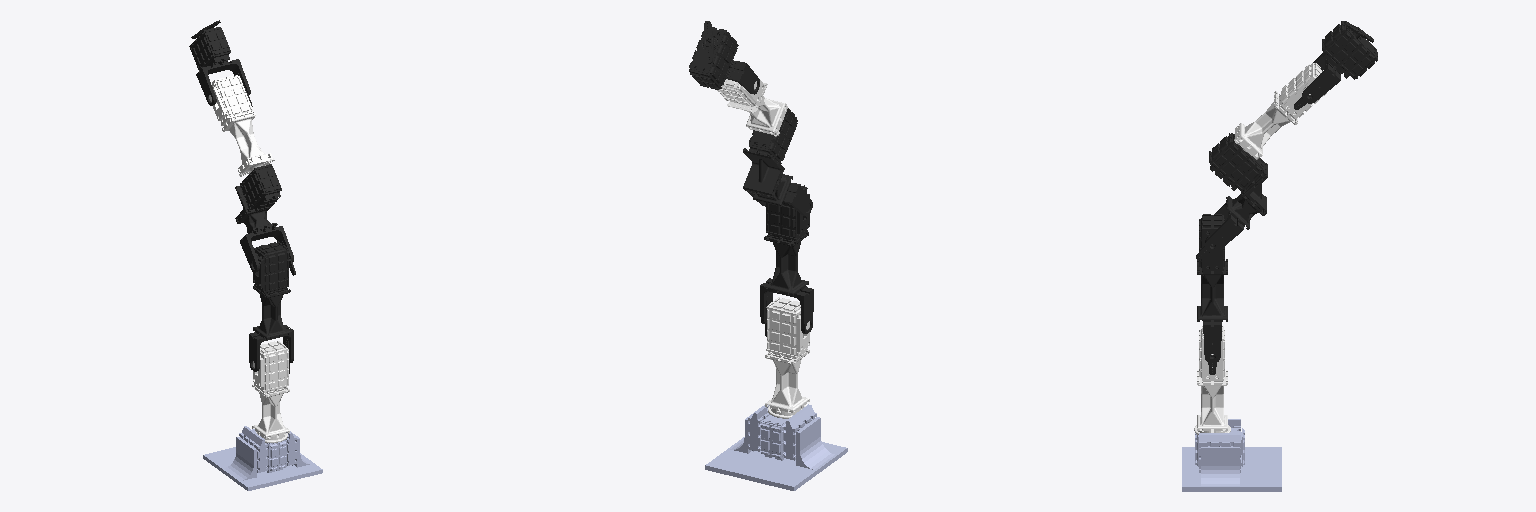
The robot description file, URDF, robot "irb120_peq":
?<robot
  name="irb120_peq">

<link name="world"/>
  <joint name="world-base_link-fixed" type="fixed">
    <parent link="world"/>
    <child link="base_link"/>
  </joint>

  <link
    name="base_link">
    <inertial>
      <origin
        xyz="0.00051296 0.015548 0.022027"
        rpy="0 0 0" />
      <mass
        value="0.27211" />
      <inertia
        ixx="0.00028864"
        ixy="3.1402E-07"
        ixz="-7.434E-07"
        iyy="0.00031302"
        iyz="-2.7862E-05"
        izz="0.00042284" />
    </inertial>
    <visual>
      <origin
        xyz="0 0 0"
        rpy="0 0 0" />
      <geometry>
        <mesh
          filename="package://abb_irb_120_description/urdf/meshes_irb_120_peq/base_link.STL" />
      </geometry>
      <material
        name="">
        <color
          rgba="0.79216 0.81961 0.93333 1" />
      </material>
    </visual>
    <collision>
      <origin
        xyz="0 0 0"
        rpy="0 0 0" />
      <geometry>
        <mesh
          filename="package://abb_irb_120_description/urdf/meshes_irb_120_peq/base_link.STL" />
      </geometry>
    </collision>
  </link>
  <link
    name="link_1">
    <inertial>
      <origin
        xyz="0.00011079 -0.00015953 0.082037"
        rpy="0 0 0" />
      <mass
        value="0.12492" />
      <inertia
        ixx="0.00024086"
        ixy="1.6867E-07"
        ixz="1.4517E-07"
        iyy="0.0002462"
        iyz="-6.166E-07"
        izz="2.6229E-05" />
    </inertial>
    <visual>
      <origin
        xyz="0 0 0"
        rpy="0 0 0" />
      <geometry>
        <mesh
          filename="package://abb_irb_120_description/urdf/meshes_irb_120_peq/link_1.STL" />
      </geometry>
      <material
        name="">
        <color
          rgba="1 1 1 1" />
      </material>
    </visual>
    <collision>
      <origin
        xyz="0 0 0"
        rpy="0 0 0" />
      <geometry>
        <mesh
          filename="package://abb_irb_120_description/urdf/meshes_irb_120_peq/link_1.STL" />
      </geometry>
    </collision>
  </link>
  <joint
    name="joint_1"
    type="revolute">
    <origin
      xyz="0 0 0.0558"
      rpy="0 0 0" />
    <parent
      link="base_link" />
    <child
      link="link_1" />
    <axis
      xyz="0 0 -1" />
    <limit
      lower="-1.5707963"
      upper="1.5707963"
      effort="200000"
      velocity="20000" />
  </joint>
  <link
    name="link_2">
    <inertial>
      <origin
        xyz="0.00096551 -0.00015034 0.11098"
        rpy="0 0 0" />
      <mass
        value="0.13255" />
      <inertia
        ixx="0.00033171"
        ixy="1.7564E-07"
        ixz="-4.3426E-06"
        iyy="0.00034731"
        iyz="-7.4516E-07"
        izz="3.5559E-05" />
    </inertial>
    <visual>
      <origin
        xyz="0 0 0"
        rpy="0 0 0" />
      <geometry>
        <mesh
          filename="package://abb_irb_120_description/urdf/meshes_irb_120_peq/link_2.STL" />
      </geometry>
      <material
        name="">
        <color
          rgba="0.21961 0.21961 0.21961 1" />
      </material>
    </visual>
    <collision>
      <origin
        xyz="0 0 0"
        rpy="0 0 0" />
      <geometry>
        <mesh
          filename="package://abb_irb_120_description/urdf/meshes_irb_120_peq/link_2.STL" />
      </geometry>
    </collision>
  </link>
  <joint
    name="joint_2"
    type="revolute">
    <origin
      xyz="0 0 0.12277"
      rpy="0 0 0" />
    <parent
      link="link_1" />
    <child
      link="link_2" />
    <axis
      xyz="-1 0 0" />
    <limit
      lower="-1.5707963"
      upper="1.5707963"
      effort="200000"
      velocity="20000"  />
  </joint>
  <link
    name="link_3">
    <inertial>
      <origin
        xyz="0.0015375 0.079158 0.030273"
        rpy="0 0 0" />
      <mass
        value="0.13311" />
      <inertia
        ixx="0.00021874"
        ixy="-3.1485E-06"
        ixz="-9.0234E-07"
        iyy="0.00013391"
        iyz="7.1499E-05"
        izz="0.00012703" />
    </inertial>
    <visual>
      <origin
        xyz="0 0 0"
        rpy="0 0 0" />
      <geometry>
        <mesh
          filename="package://abb_irb_120_description/urdf/meshes_irb_120_peq/link_3.STL" />
      </geometry>
      <material
        name="">
        <color
          rgba="0.21961 0.21961 0.21961 1" />
      </material>
    </visual>
    <collision>
      <origin
        xyz="0 0 0"
        rpy="0 0 0" />
      <geometry>
        <mesh
          filename="package://abb_irb_120_description/urdf/meshes_irb_120_peq/link_3.STL" />
      </geometry>
    </collision>
  </link>
  <joint
    name="joint_3"
    type="revolute">
    <origin
      xyz="0 0 0.15826"
      rpy="0.7854 0 7.2249E-15" />
    <parent
      link="link_2" />
    <child
      link="link_3" />
    <axis
      xyz="-1 0 0" />
    <limit
     lower="-1.5707963"
      upper="1.5707963"
      effort="200000"
      velocity="20000"  />
  </joint>
  <link
    name="link_4">
    <inertial>
      <origin
        xyz="0.00011113 0.10829 0.00016001"
        rpy="0 0 0" />
      <mass
        value="0.12454" />
      <inertia
        ixx="0.00023558"
        ixy="1.3957E-07"
        ixz="-1.3074E-07"
        iyy="2.6051E-05"
        iyz="6.0854E-07"
        izz="0.00024095" />
    </inertial>
    <visual>
      <origin
        xyz="0 0 0"
        rpy="0 0 0" />
      <geometry>
        <mesh
          filename="package://abb_irb_120_description/urdf/meshes_irb_120_peq/link_4.STL" />
      </geometry>
      <material
        name="">
        <color
          rgba="1 1 1 1" />
      </material>
    </visual>
    <collision>
      <origin
        xyz="0 0 0"
        rpy="0 0 0" />
      <geometry>
        <mesh
          filename="package://abb_irb_120_description/urdf/meshes_irb_120_peq/link_4.STL" />
      </geometry>
    </collision>
  </link>
  <joint
    name="joint_4"
    type="revolute">
    <origin
      xyz="0.0011084 0.092995 0.062475"
      rpy="0 0 0" />
    <parent
      link="link_3" />
    <child
      link="link_4" />
    <axis
      xyz="0 -1 0" />
    <limit
      lower="-1.5707963"
      upper="1.5707963"
      effort="200000"
      velocity="20000"  />
  </joint>
  <link
    name="link_5">
    <inertial>
      <origin
        xyz="0.00039869 0.063728 -0.00013307"
        rpy="0 0 0" />
      <mass
        value="0.092614" />
      <inertia
        ixx="7.3178E-05"
        ixy="-3.2958E-06"
        ixz="-3.2165E-08"
        iyy="4.1616E-05"
        iyz="-1.9586E-07"
        izz="6.6047E-05" />
    </inertial>
    <visual>
      <origin
        xyz="0 0 0"
        rpy="0 0 0" />
      <geometry>
        <mesh
          filename="package://abb_irb_120_description/urdf/meshes_irb_120_peq/link_5.STL" />
      </geometry>
      <material
        name="">
        <color
          rgba="0.21961 0.21961 0.21961 1" />
      </material>
    </visual>
    <collision>
      <origin
        xyz="0 0 0"
        rpy="0 0 0" />
      <geometry>
        <mesh
          filename="package://abb_irb_120_description/urdf/meshes_irb_120_peq/link_5.STL" />
      </geometry>
    </collision>
  </link>
  <joint
    name="joint_5"
    type="revolute">
    <origin
      xyz="0 0.14861 0"
      rpy="-1.2768E-15 4.1417E-16 4.1417E-16" />
    <parent
      link="link_4" />
    <child
      link="link_5" />
    <axis
      xyz="-1 0 0" />
    <limit
       lower="-1.5707963"
      upper="1.5707963"
      effort="200000"
      velocity="20000" />
  </joint>
  <link
    name="link_6">
    <inertial>
      <origin
        xyz="1.9446E-08 0.034809 -8.7414E-08"
        rpy="0 0 0" />
      <mass
        value="0.0018612" />
      <inertia
        ixx="2.8099E-07"
        ixy="7.6219E-14"
        ixz="1.1843E-07"
        iyy="3.4976E-07"
        iyz="-3.8364E-13"
        izz="8.0474E-08" />
    </inertial>
    <visual>
      <origin
        xyz="0 0 0"
        rpy="0 0 0" />
      <geometry>
        <mesh
          filename="package://abb_irb_120_description/urdf/meshes_irb_120_peq/link_6.STL" />
      </geometry>
      <material
        name="">
        <color
          rgba="0.21961 0.21961 0.21961 1" />
      </material>
    </visual>
    <collision>
      <origin
        xyz="0 0 0"
        rpy="0 0 0" />
      <geometry>
        <mesh
          filename="package://abb_irb_120_description/urdf/meshes_irb_120_peq/link_6.STL" />
      </geometry>
    </collision>
  </link>
  <joint
    name="joint_6"
    type="revolute">
    <origin
      xyz="-0.00039 0.064507 0.01"
      rpy="0 0 -7.8886E-31" />
    <parent
      link="link_5" />
    <child
      link="link_6" />
    <axis
      xyz="0 -1 0" />
    <limit
        lower="-1.5707963"
      upper="1.5707963"
      effort="200000"
      velocity="20000"  />
  </joint>

  <transmission name="tran1">
    <type>transmission_interface/SimpleTransmission</type>
    <joint name="joint_1">
      <hardwareInterface>PositionJointInterface</hardwareInterface>
    </joint>
    <actuator name="motor1">
      <mechanicalReduction>1</mechanicalReduction>
    </actuator>
  </transmission>
  <transmission name="tran2">
    <type>transmission_interface/SimpleTransmission</type>
    <joint name="joint_2">
      <hardwareInterface>PositionJointInterface</hardwareInterface>
    </joint>
    <actuator name="motor2">
      <mechanicalReduction>1</mechanicalReduction>
    </actuator>
  </transmission>
  <transmission name="tran3">
    <type>transmission_interface/SimpleTransmission</type>
    <joint name="joint_3">
      <hardwareInterface>PositionJointInterface</hardwareInterface>
    </joint>
    <actuator name="motor3">
      <mechanicalReduction>1</mechanicalReduction>
    </actuator>
  </transmission>
  <transmission name="tran4">
    <type>transmission_interface/SimpleTransmission</type>
    <joint name="joint_4">
      <hardwareInterface>PositionJointInterface</hardwareInterface>
    </joint>
    <actuator name="motor4">
      <mechanicalReduction>1</mechanicalReduction>
    </actuator>
  </transmission>
  <transmission name="tran5">
    <type>transmission_interface/SimpleTransmission</type>
    <joint name="joint_5">
      <hardwareInterface>PositionJointInterface</hardwareInterface>
    </joint>
    <actuator name="motor5">
      <mechanicalReduction>1</mechanicalReduction>
    </actuator>
  </transmission>
  <transmission name="tran6">
    <type>transmission_interface/SimpleTransmission</type>
    <joint name="joint_6">
      <hardwareInterface>PositionJointInterface</hardwareInterface>
    </joint>
    <actuator name="motor6">
      <mechanicalReduction>1</mechanicalReduction>
    </actuator>
  </transmission>
  <!-- end of transmission list -->

  <!-- Gazebo-specific link properties -->
  <gazebo reference="base_link">
    <material>Gazebo/Orange</material>
    <turnGravityOff>true</turnGravityOff>
  </gazebo>
  <gazebo reference="link_1">
    <material>Gazebo/Orange</material>
    <turnGravityOff>true</turnGravityOff>
  </gazebo>
  <gazebo reference="link_2">
    <material>Gazebo/Orange</material>
    <turnGravityOff>true</turnGravityOff>
  </gazebo>  
  <gazebo reference="link_3">
    <material>Gazebo/Orange</material>
    <turnGravityOff>true</turnGravityOff>
  </gazebo>
  <gazebo reference="link_4">
    <material>Gazebo/Orange</material>
    <turnGravityOff>true</turnGravityOff>
  </gazebo>
  <gazebo reference="link_5">
    <material>Gazebo/Orange</material>
    <turnGravityOff>true</turnGravityOff>
  </gazebo>
  <gazebo reference="link_6">
    <material>Gazebo/Black</material>
    <turnGravityOff>true</turnGravityOff>
  </gazebo>

  <!-- ros_control plugin -->
  <gazebo>
    <plugin name="gazebo_ros_control" filename="libgazebo_ros_control.so">
      <robotNamespace>/</robotNamespace>
      <robotSimType>gazebo_ros_control/DefaultRobotHWSim</robotSimType>
    </plugin>
  </gazebo>  
</robot>

--- Render facts (derived) ---
The picture shows the robot from 3 angles, left to right: view 1: azimuth 30°, elevation 25°; view 2: azimuth 150°, elevation 25°; view 3: azimuth 270°, elevation 25°; orthographic projection.
Model irb120_peq with 8 links and 7 joints (6 revolute, 1 fixed), rooted at world, posed all joints at 0.
Links seen in each view (by area): view 1: base_link, link_2, link_3, link_4, link_1, link_5; view 2: base_link, link_2, link_1, link_3, link_5, link_4; view 3: base_link, link_3, link_2, link_5, link_4, link_1.
Boxes of the visible links, x1,y1,x2,y2 form: base_link: (203,426,322,490); link_2: (249,241,293,373); link_3: (235,164,295,275); link_4: (209,75,274,176); link_1: (252,341,289,442); link_5: (189,27,252,106); base_link: (705,404,847,490); link_2: (760,183,813,336); link_1: (765,297,809,418); link_3: (743,108,812,216); link_5: (689,27,759,94); link_4: (717,79,787,136); base_link: (1182,419,1281,491); link_3: (1196,133,1267,259); link_2: (1197,214,1227,374); link_5: (1294,21,1377,109); link_4: (1234,63,1326,159); link_1: (1194,326,1230,434).
Size in the robot's own frame: 0.125 by 0.2543 by 0.6491 metres.
Meshes: 7 distinct files referenced, 7 mesh visuals loaded (7 binary STL).